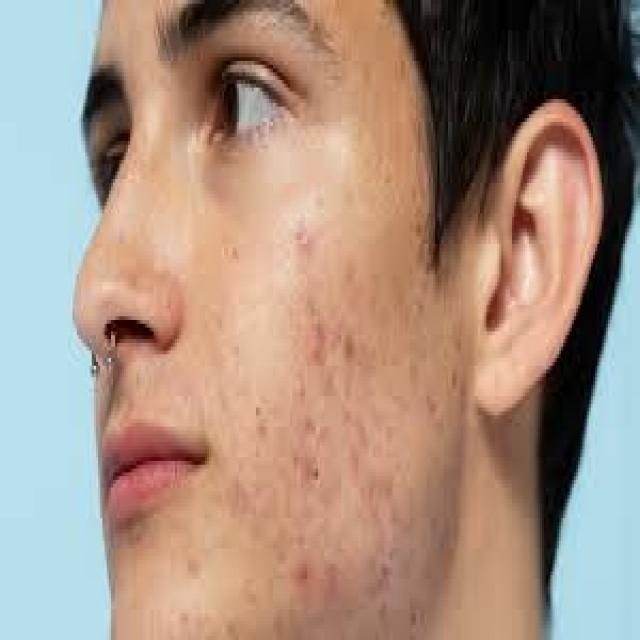Acne: (267, 221, 366, 493)
